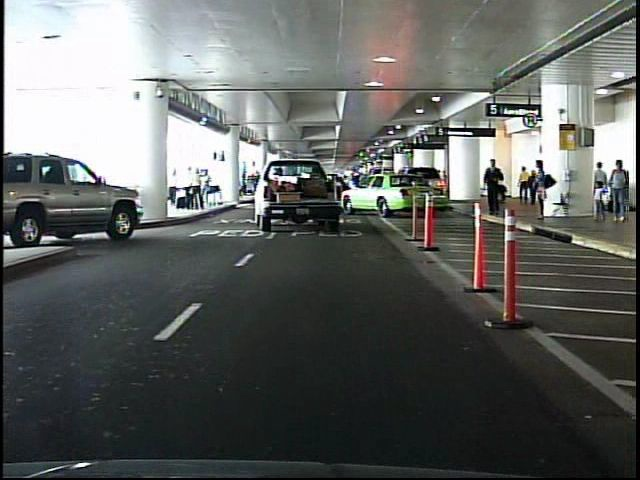person: (530, 156, 554, 224), (483, 156, 504, 217), (591, 176, 608, 224), (518, 166, 528, 203)
